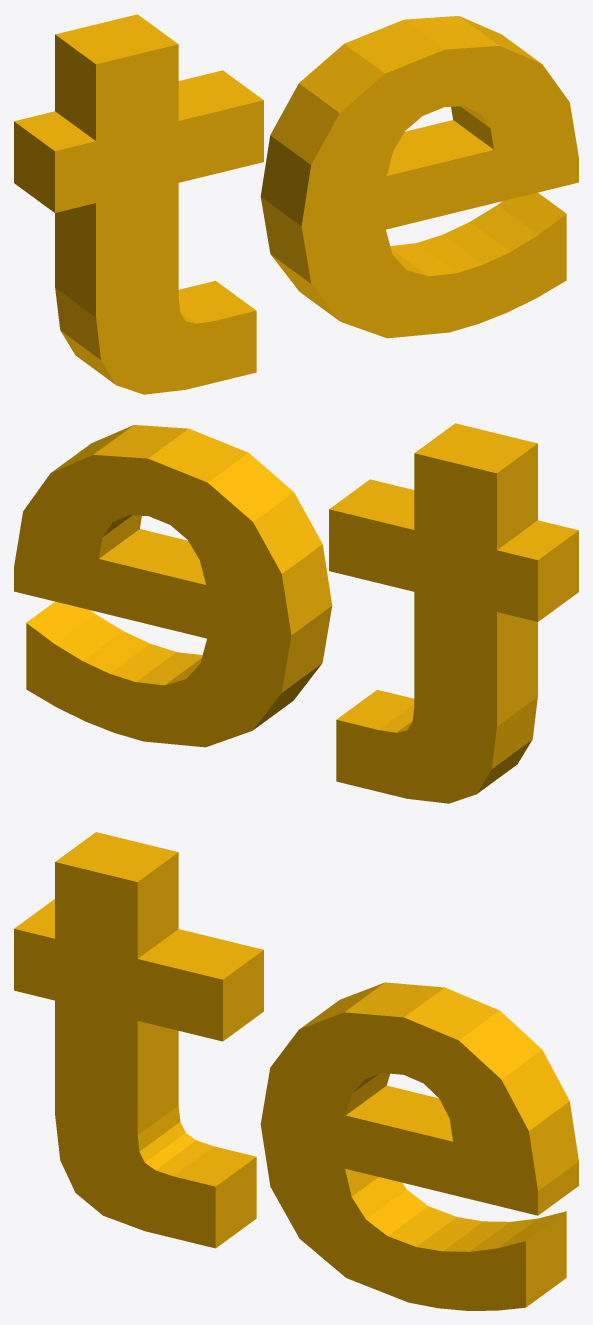
File: suku_kecil_te.glb
3 renders of one model, top to bottom at view 1: azimuth 30°, elevation 25°; view 2: azimuth 150°, elevation 25°; view 3: azimuth 330°, elevation 25°, orthographic.
Visible parts, largest first — view 1: geometry_0; view 2: geometry_0; view 3: geometry_0.
Part boxes in pixels (bbox=[...]): geometry_0: bbox=[14, 14, 578, 394]; geometry_0: bbox=[14, 423, 578, 803]; geometry_0: bbox=[14, 832, 578, 1310].
Bounding box in the file's own units: 11.09 × 7.16 × 1.5.
